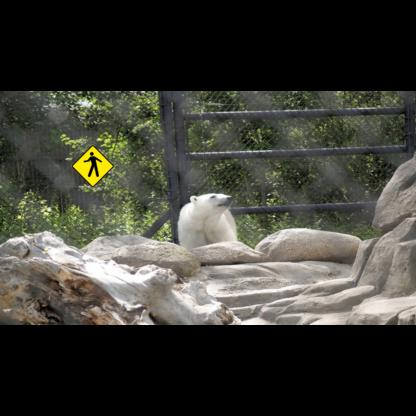A-32a: (71, 145, 114, 188)
